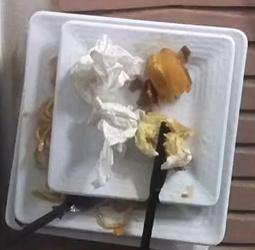asian_noodles: (34, 99, 54, 168), (43, 191, 64, 202)
bread: (135, 110, 193, 169)
dessert: (147, 48, 191, 103)
